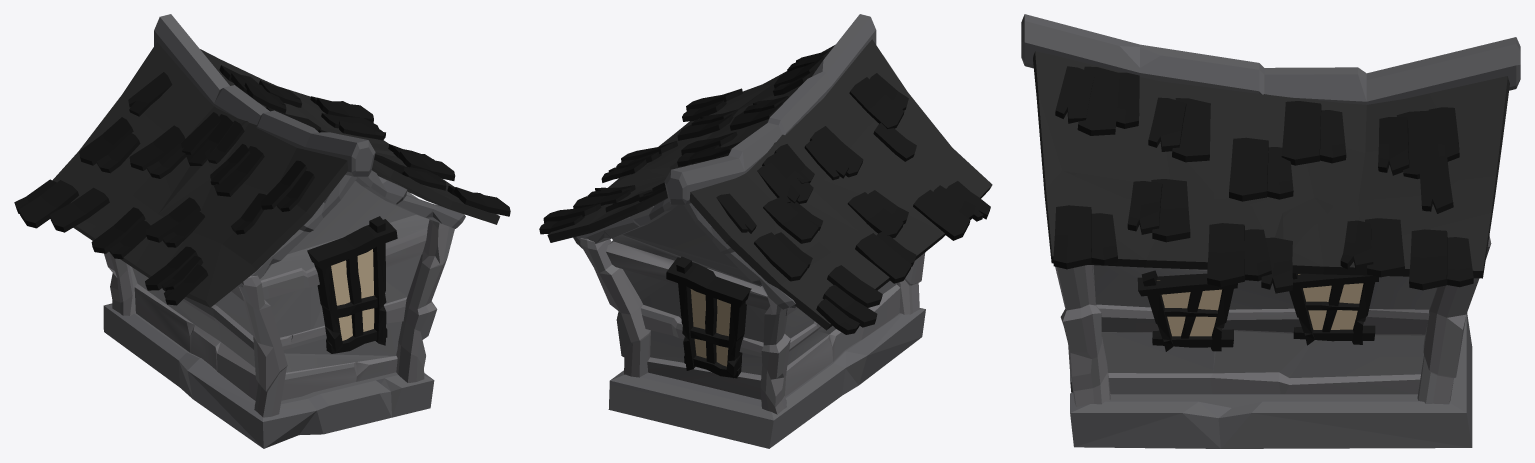
File: WF_LP_HT_Build_HouseRoom.002.3.fbx
The picture shows the model from 3 angles, left to right: view 1: azimuth 30°, elevation 25°; view 2: azimuth 150°, elevation 25°; view 3: azimuth 270°, elevation 25°; orthographic projection. The views are drawn at different scales.
Visible parts, largest first — view 1: WF_LP_HT_Build_HouseRoom.002.3; view 2: WF_LP_HT_Build_HouseRoom.002.3; view 3: WF_LP_HT_Build_HouseRoom.002.3.
Boxes of the visible parts, x1=… form: WF_LP_HT_Build_HouseRoom.002.3: x1=14, y1=14, x2=510, y2=448; WF_LP_HT_Build_HouseRoom.002.3: x1=539, y1=14, x2=992, y2=448; WF_LP_HT_Build_HouseRoom.002.3: x1=1021, y1=14, x2=1520, y2=448.
Size of the model in its own units: 5.57 by 4.65 by 5.58.
